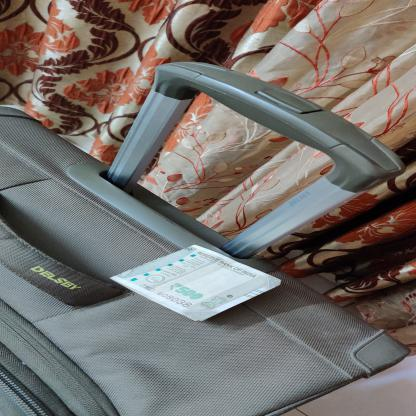New500Front: (108, 245, 283, 321)
